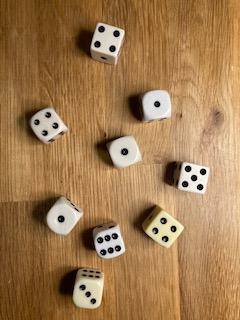five: (170, 159, 211, 197)
four: (139, 203, 186, 251), (26, 105, 71, 146), (88, 21, 126, 66)
one: (42, 195, 85, 238), (103, 133, 144, 170), (138, 88, 174, 123)
six: (90, 220, 128, 260)
three: (71, 266, 105, 310)
